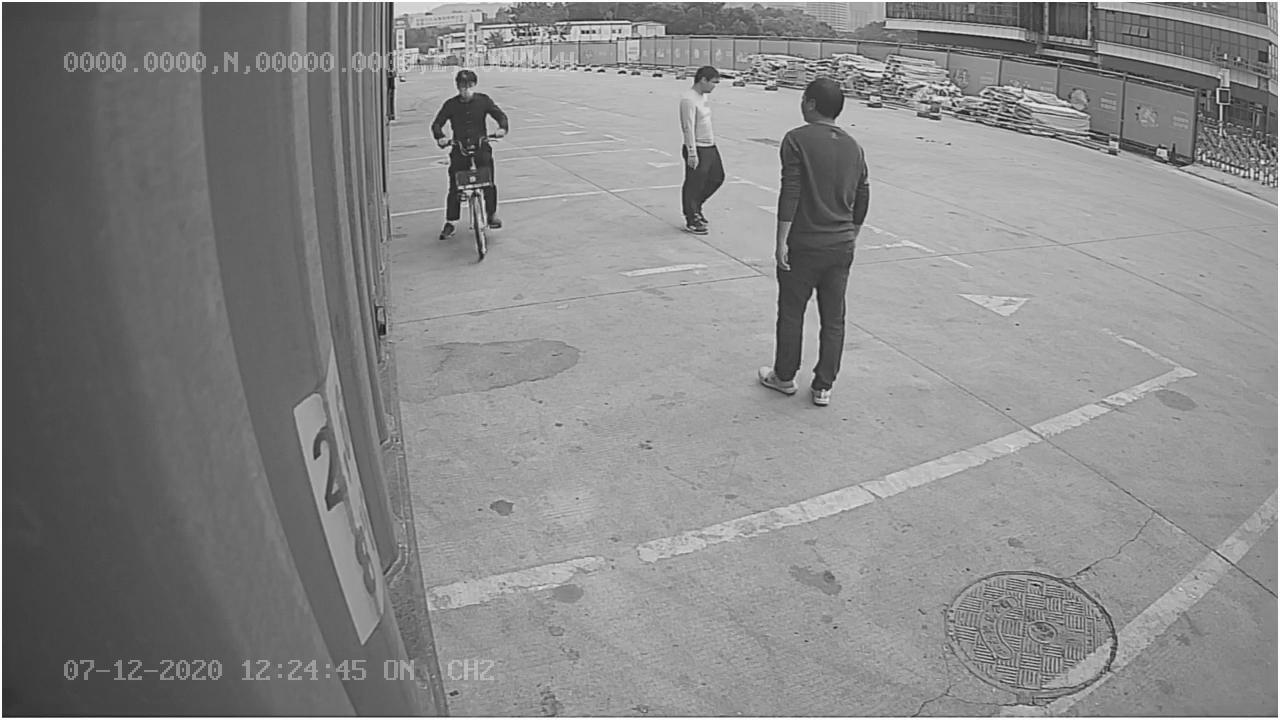person: (753, 75, 873, 410), (673, 65, 733, 238)
